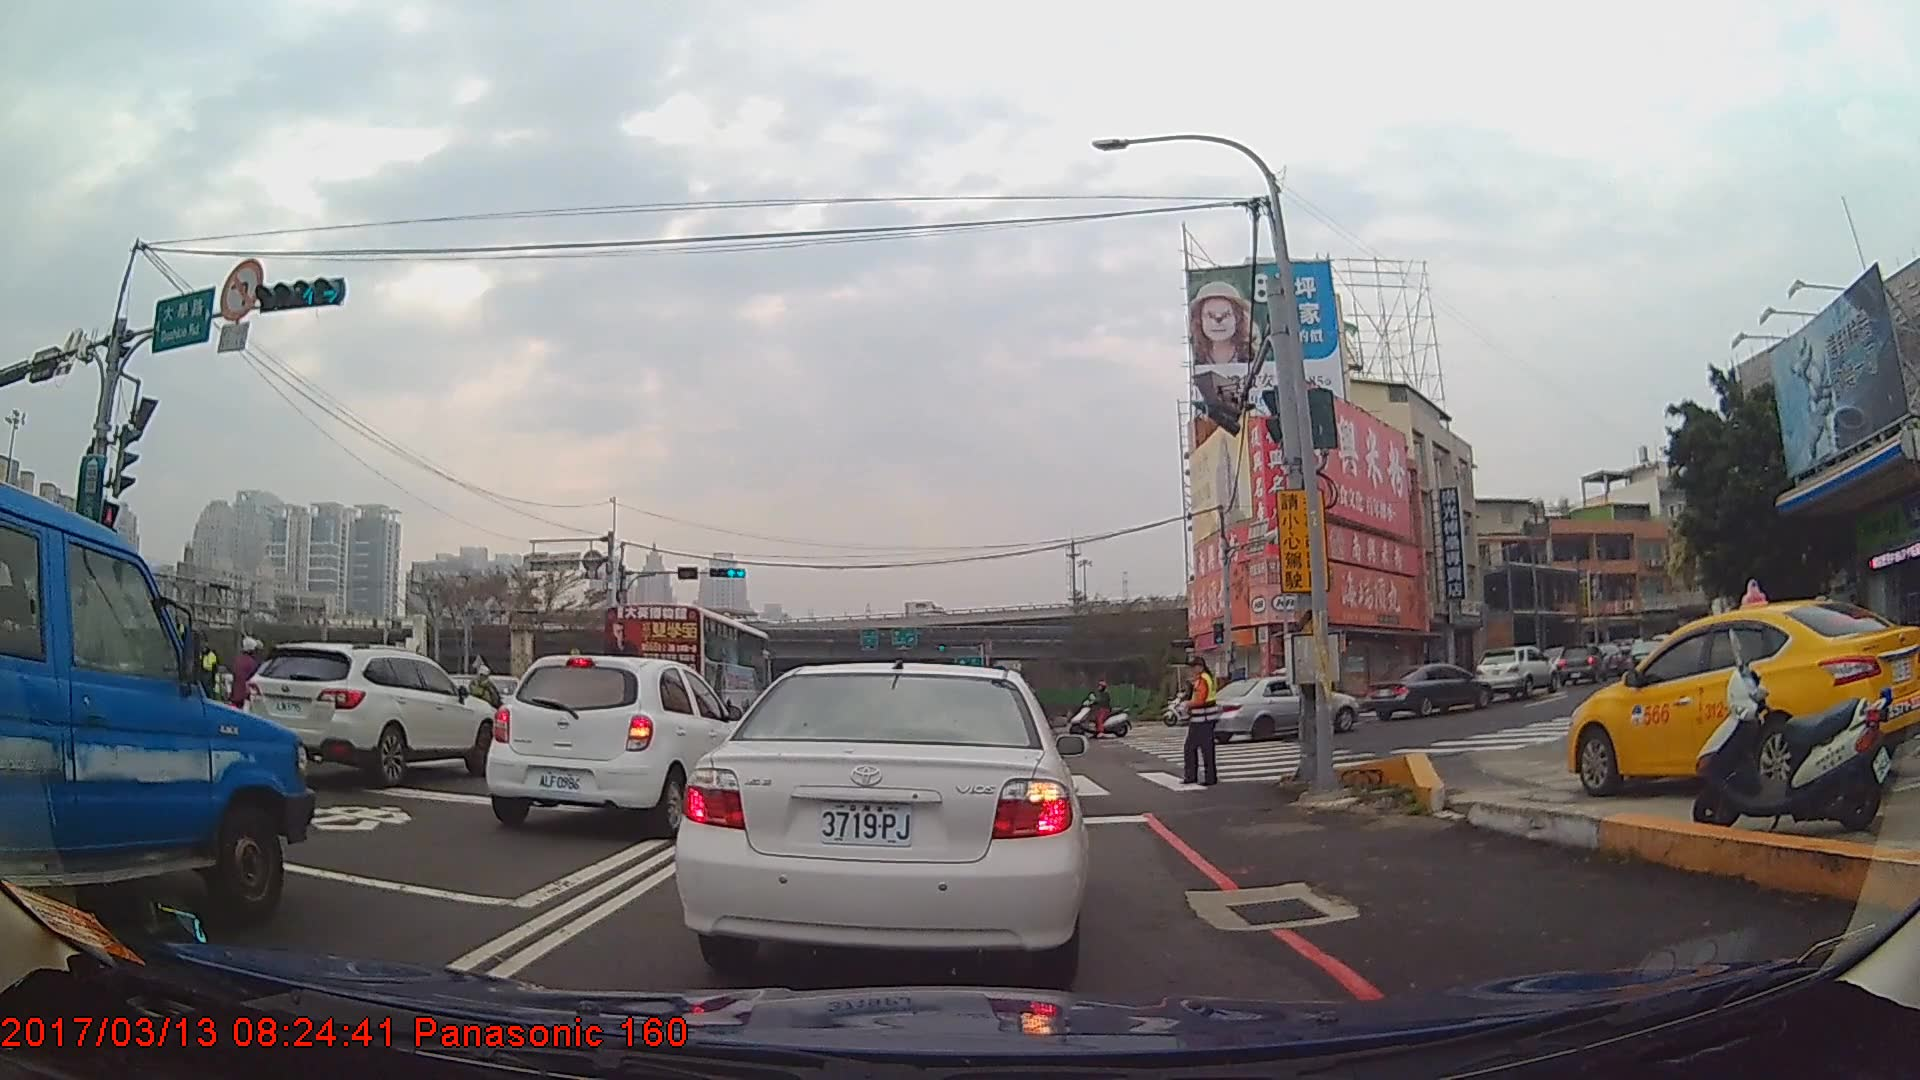pedestrian: (1180, 659, 1225, 791)
rider: (224, 636, 276, 755), (1071, 682, 1132, 738), (467, 666, 502, 737)
vehicle: (0, 478, 314, 942), (672, 656, 1085, 979), (1566, 597, 1920, 798), (482, 653, 749, 841), (242, 640, 495, 785), (596, 601, 770, 733), (1193, 674, 1358, 745), (1365, 662, 1492, 722), (1476, 645, 1559, 699), (1558, 642, 1607, 688)
